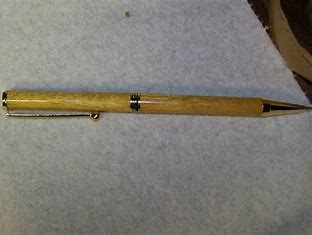pen: (1, 81, 310, 130)
